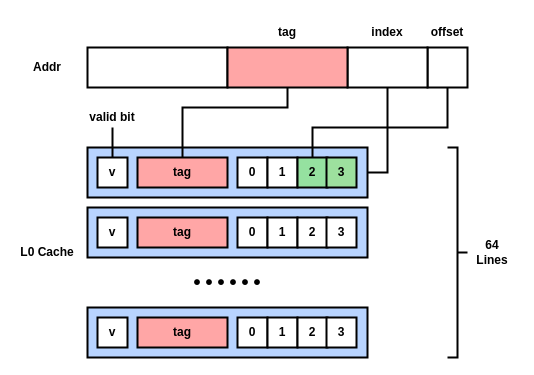
Image size: 534x375. Some labels were removed from this diagram. Each missing label, with the box of its shape:
10bits: (226, 46, 348, 88)
14bits: (86, 46, 228, 88)
2bits: (426, 46, 468, 88)
6bits: (346, 46, 428, 88)
